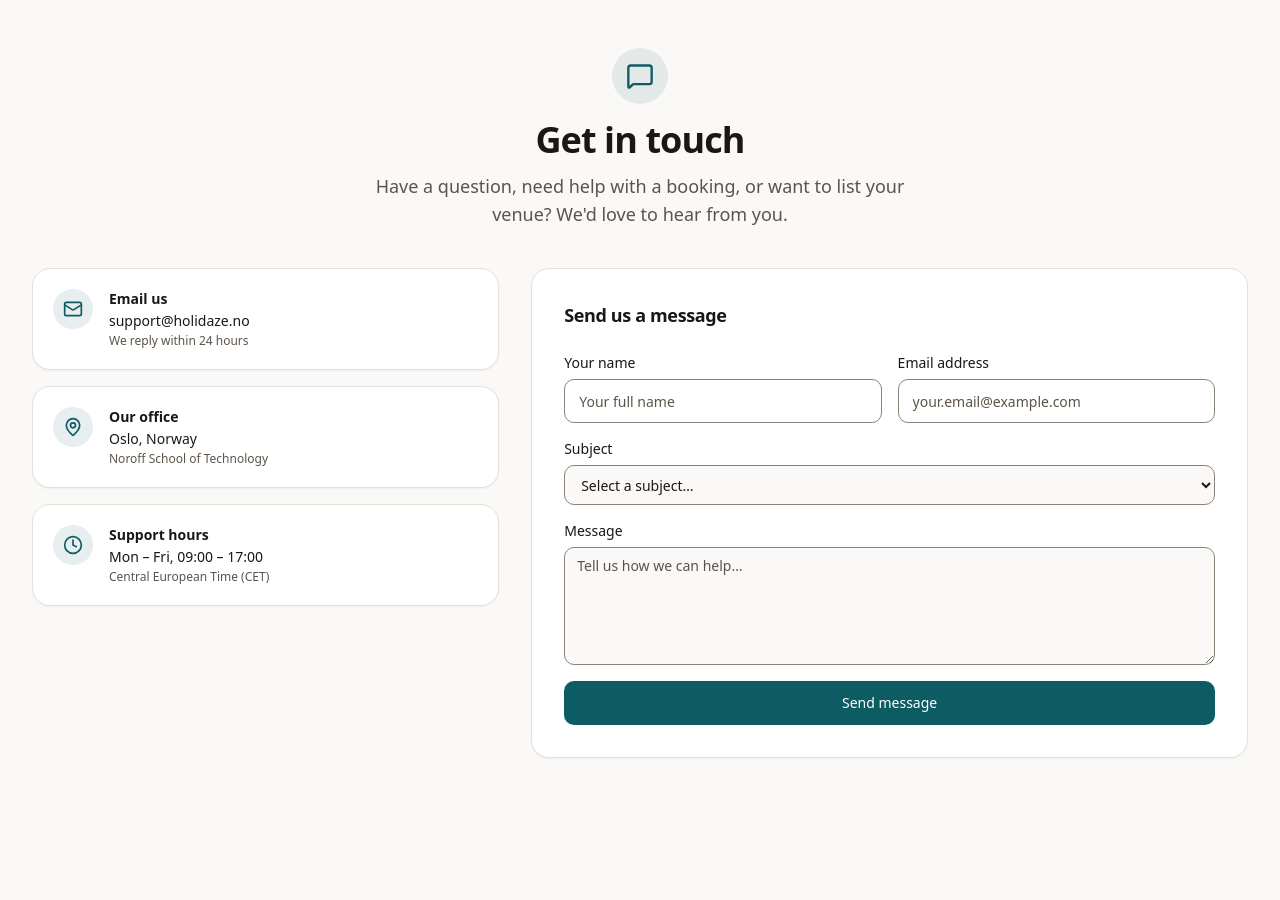
Test: ContactPage — validation › shows name error when name is too short
Type "Jo" into the field labelled "Your name" at [723, 401], box [564, 379, 882, 423]
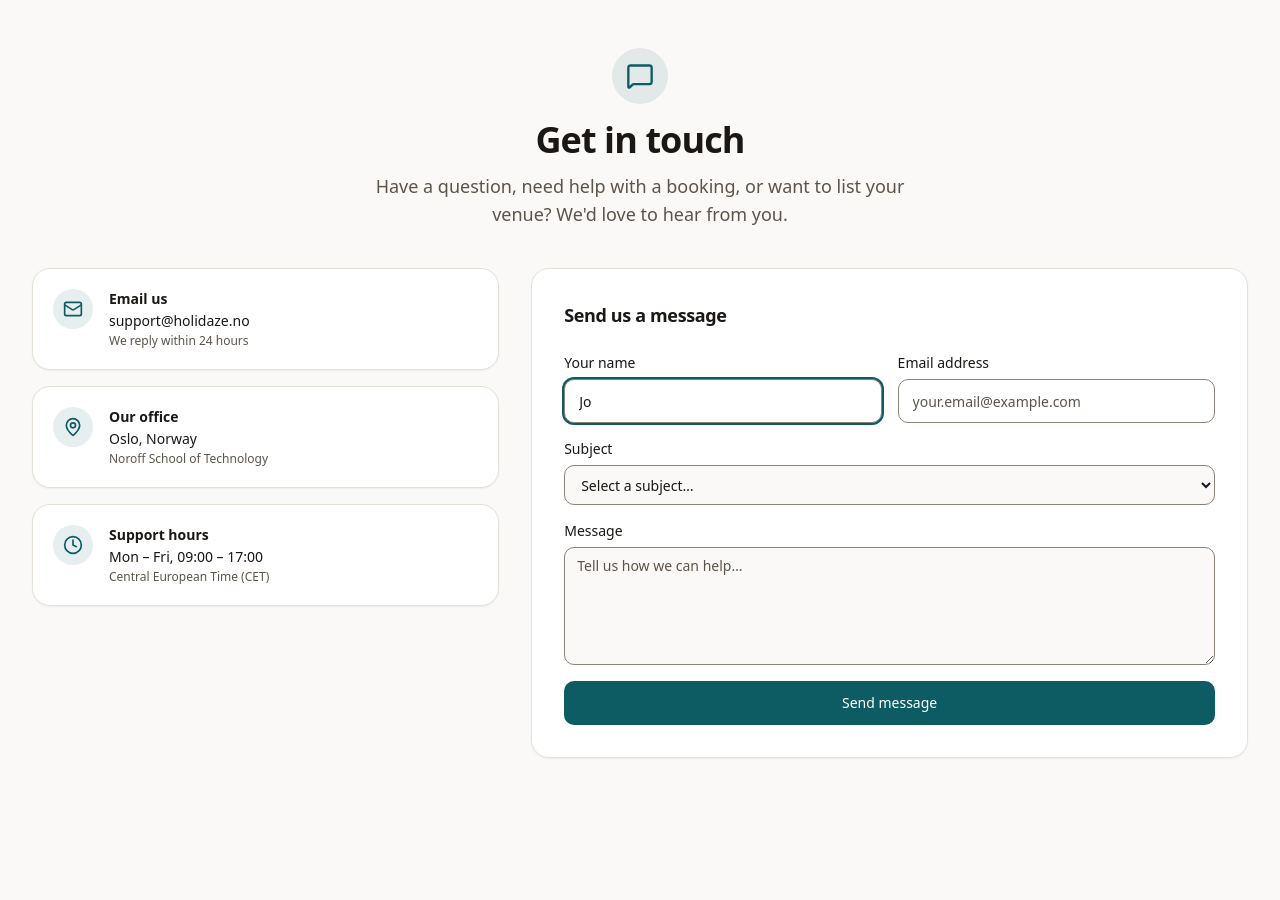
Click the button "Send message" at [890, 703], box [564, 681, 1215, 725]
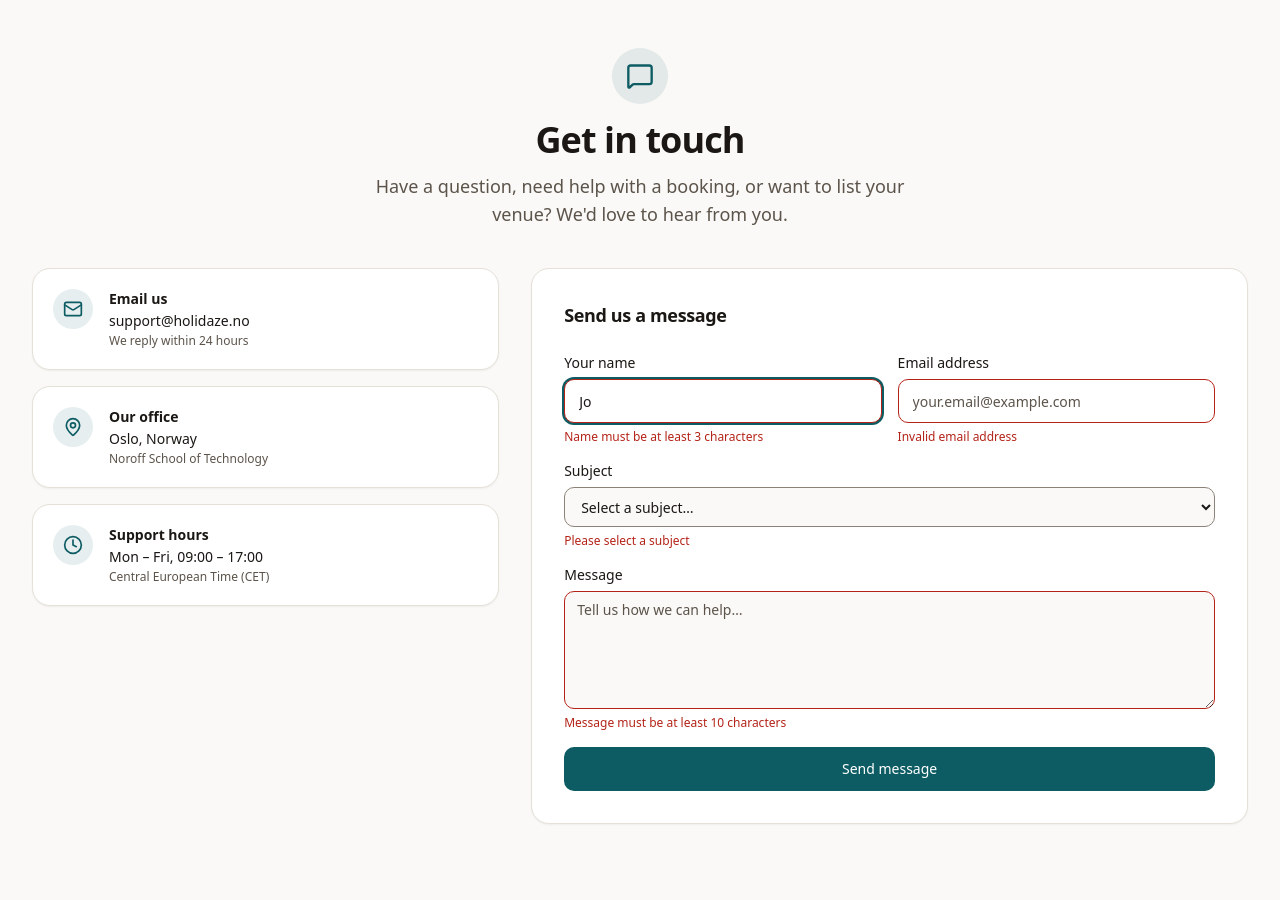
Now the text "Name must be at least 3 characters" is shown, box [564, 428, 763, 445]
